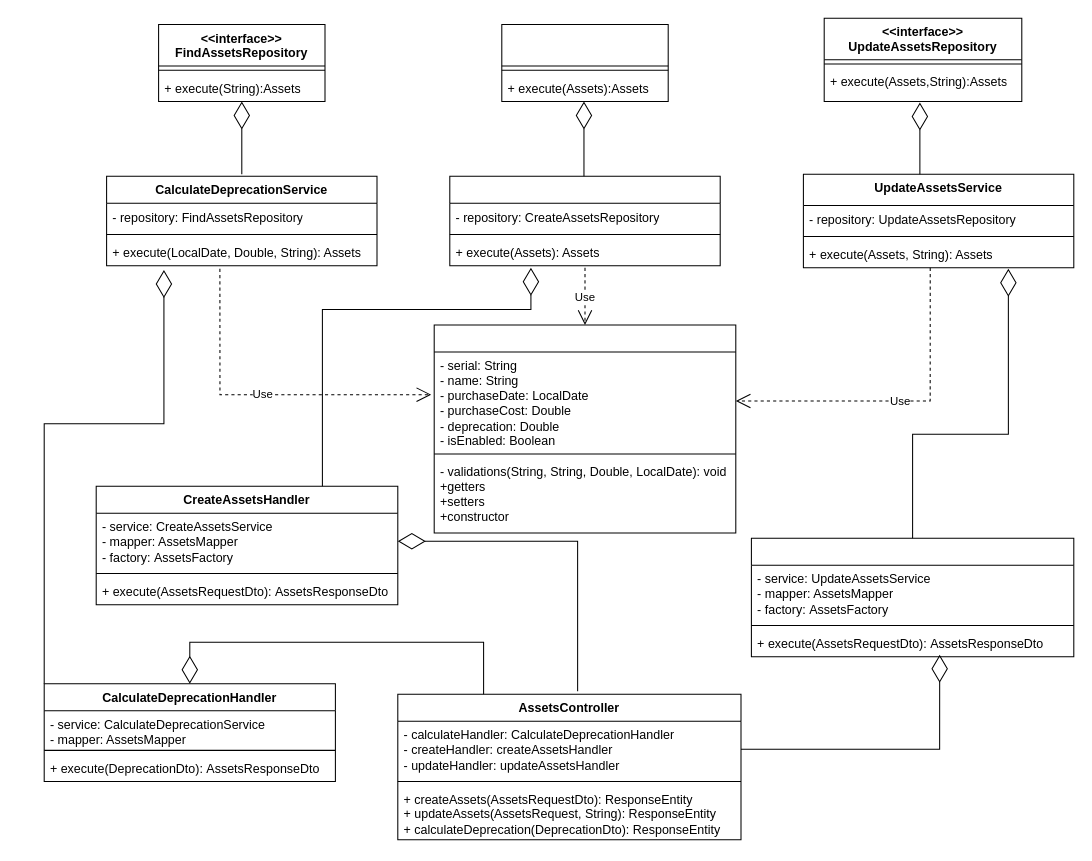
The diagram is 1092 pixels wide and 861 high, and some of its shapes have lost their labels. The box of each missing label's shape, as (x1, y1, x2, y2) in pixels:
<<interface>> CreateAssetsRepository: (501, 23, 668, 101)
Assets: (433, 324, 736, 533)
CreateAssetsService: (449, 175, 720, 266)
UpdateAssetsHandler: (750, 537, 1074, 657)
